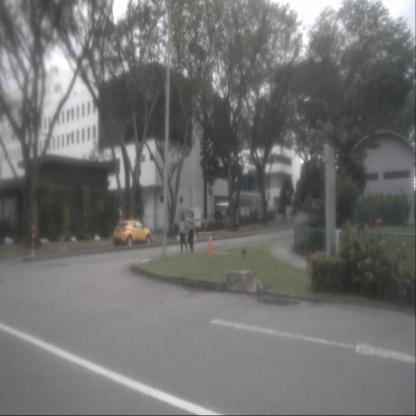cone: (206, 234, 214, 257)
